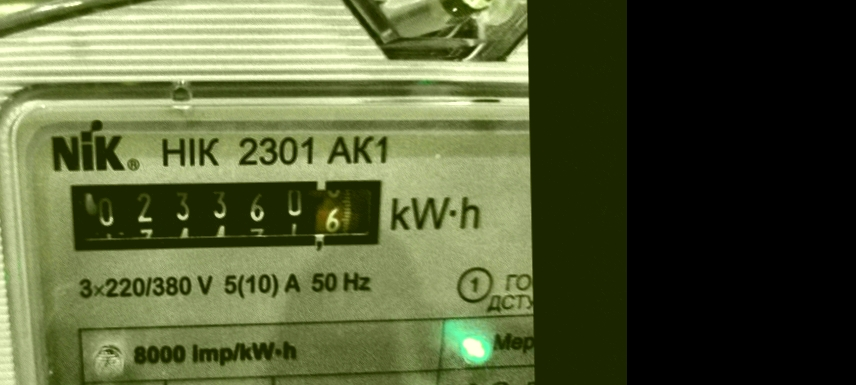0: (94, 193, 116, 226), (285, 185, 303, 217)
2: (132, 189, 156, 224)
3: (170, 188, 192, 221), (209, 187, 229, 218)
6: (245, 189, 266, 221), (320, 202, 342, 232)
screen: (51, 160, 395, 265)
